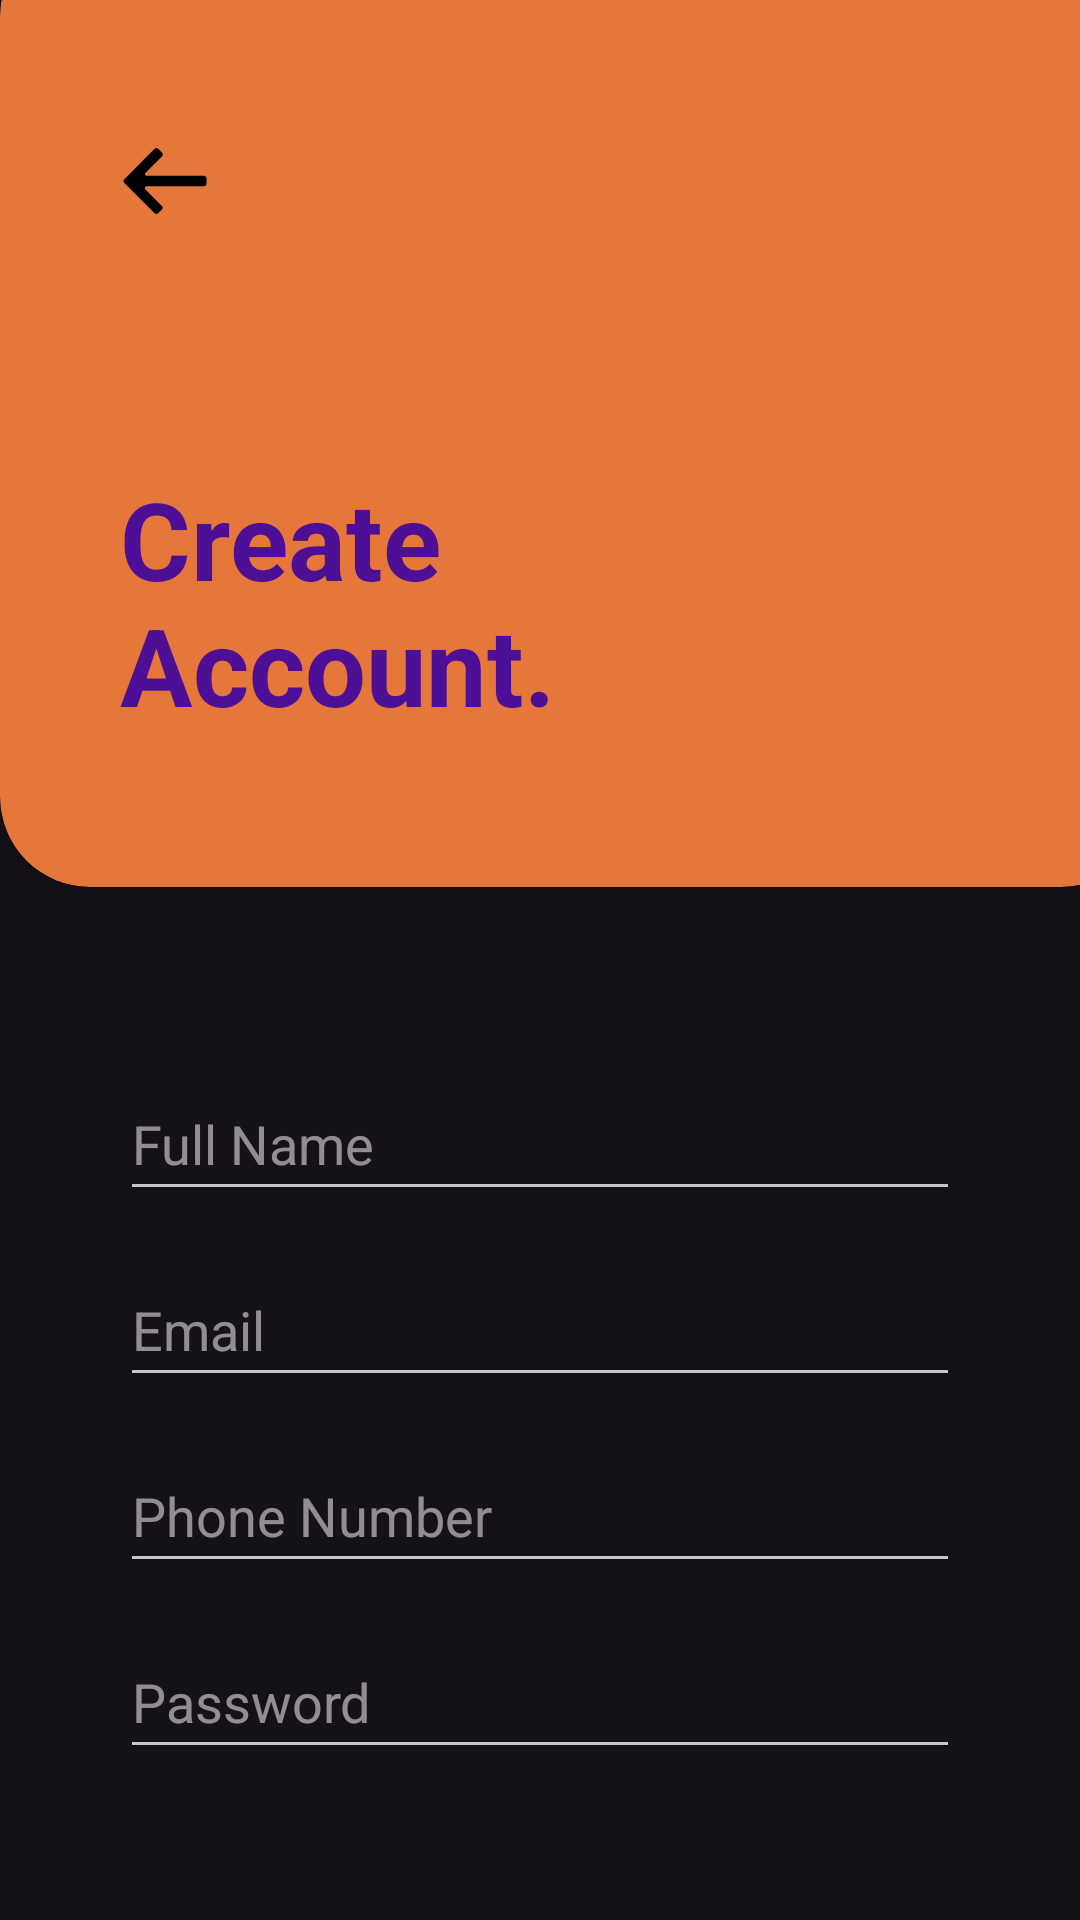

Where icons sit on this 1080 x 1920 app screen, as BBox(x1, y1, x2, y2):
back arrow: BBox(123, 148, 207, 214)
